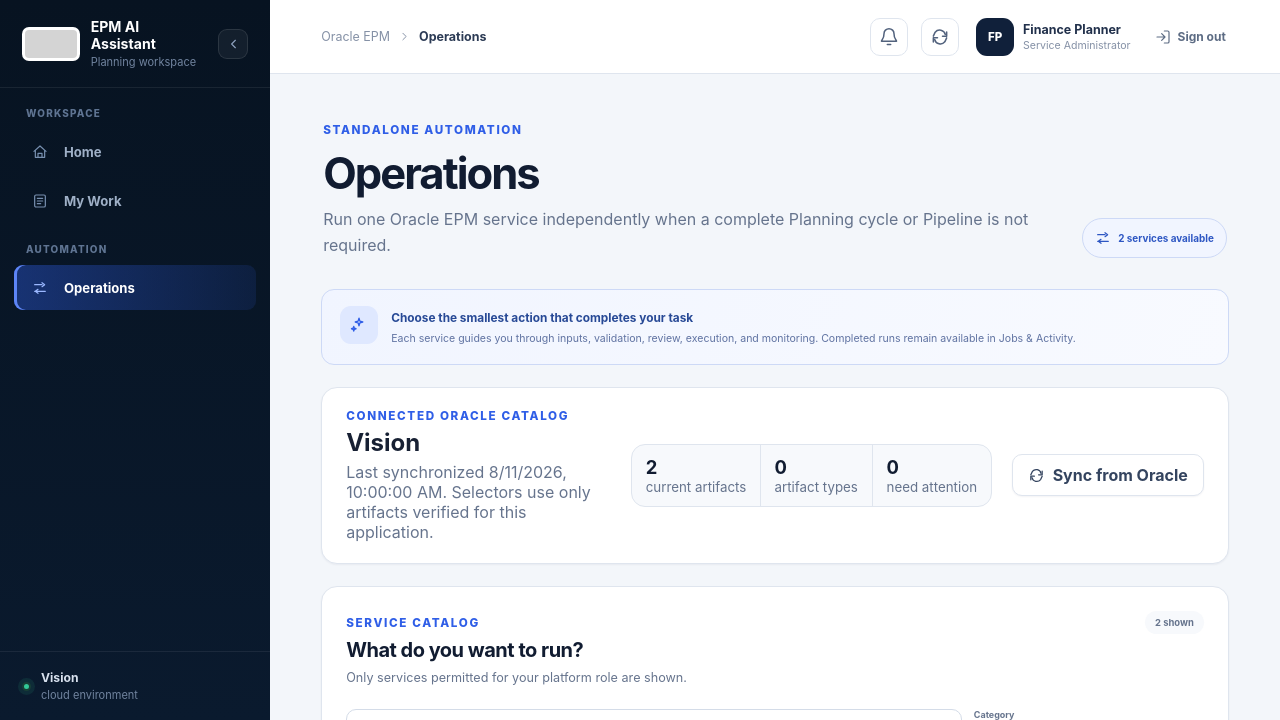
Test: App › lets authorized users choose and open an individual service
expect the heading "Operations" is shown: met, box [323, 147, 539, 199]
expect the text "current artifacts" is shown: met, box [646, 479, 746, 495]
Click the button "Sync from Oracle".
click(1108, 475)  # box [1012, 454, 1204, 496]
(page scrolled)
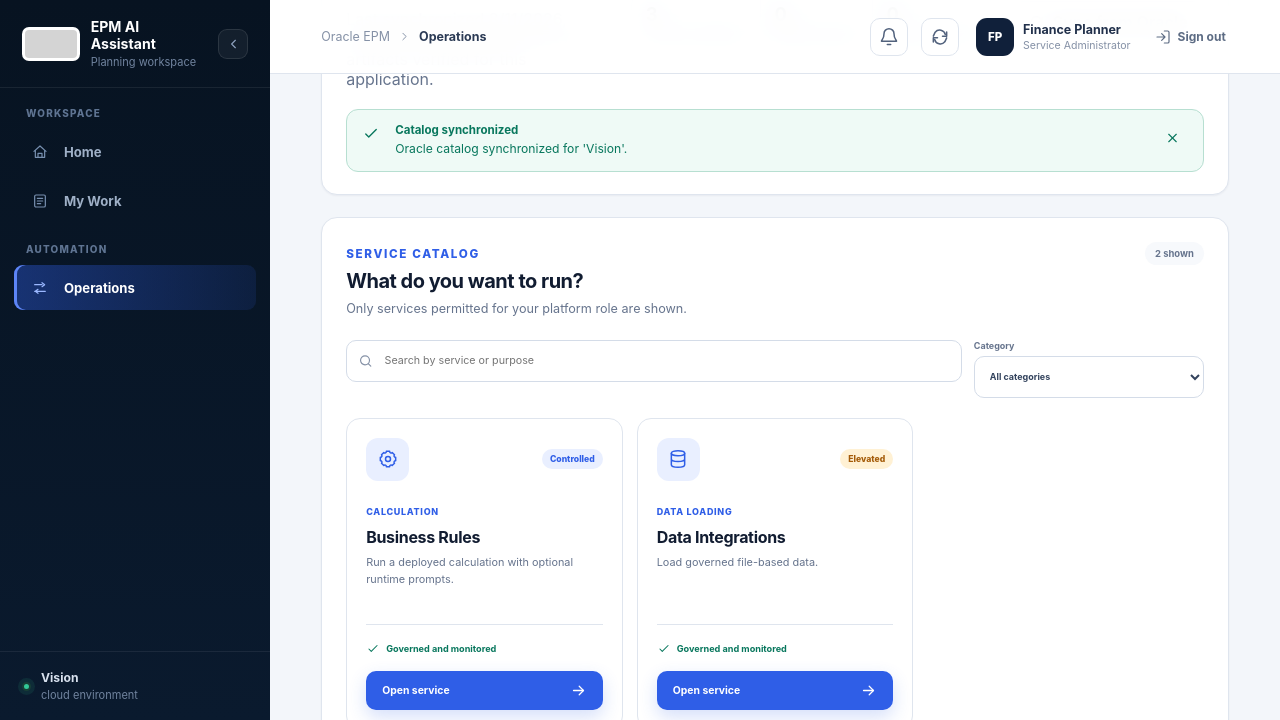
expect the text "Catalog synchronized" is shown: met, box [395, 123, 518, 137]
Type "data" into the field with placeholder "Search by service or purpose".
click(666, 360); type("data")  # box [382, 353, 950, 368]
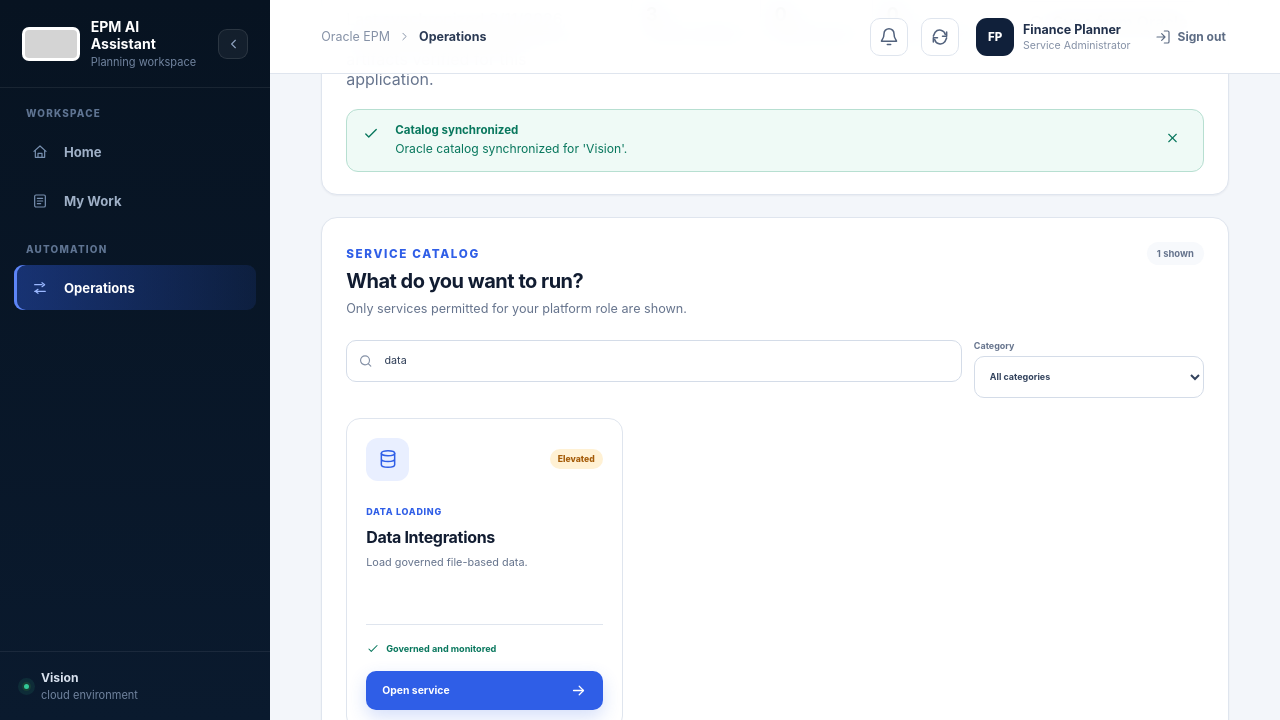
expect the heading "Data Integrations" is shown: met, box [366, 526, 495, 546]
expect the heading "Business Rules" is gone: met
